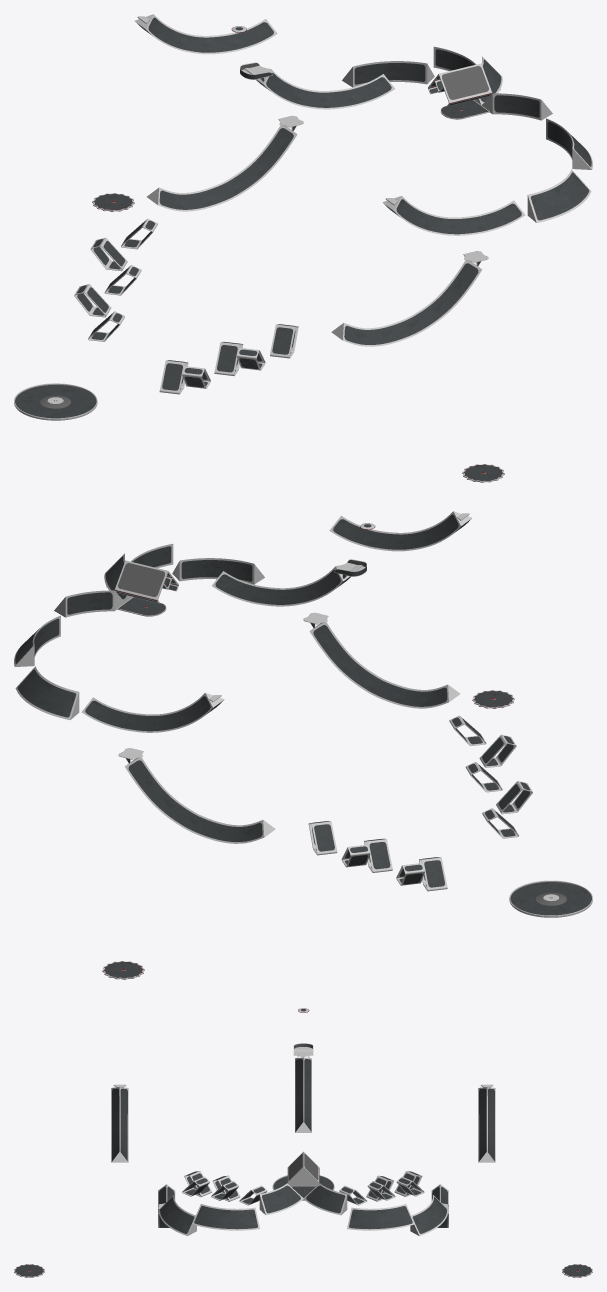
The model's file is surf_skyworld3_preview.fbx.
3 views of the same model, one above another, from view 1: azimuth 30°, elevation 25°; view 2: azimuth 150°, elevation 25°; view 3: azimuth 270°, elevation 25° (orthographic). The views are drawn at different scales.
Parts seen in each view (by area): view 1: surf_skyworld3.011; view 2: surf_skyworld3.011; view 3: surf_skyworld3.011.
Part boxes in pixels (x1,y1,x2,y2): surf_skyworld3.011: (14,14,592,482); surf_skyworld3.011: (14,511,592,979); surf_skyworld3.011: (14,1008,592,1277).
Size of the model in its own units: 7730 by 4730 by 10167.
